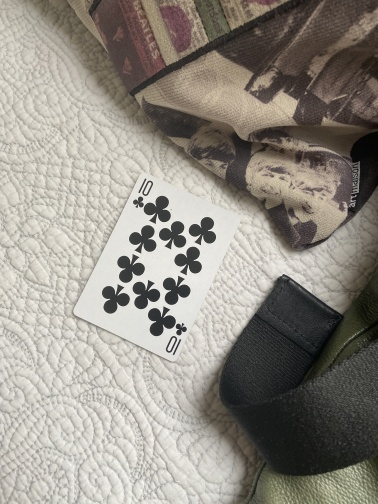ten: (71, 171, 242, 363)
